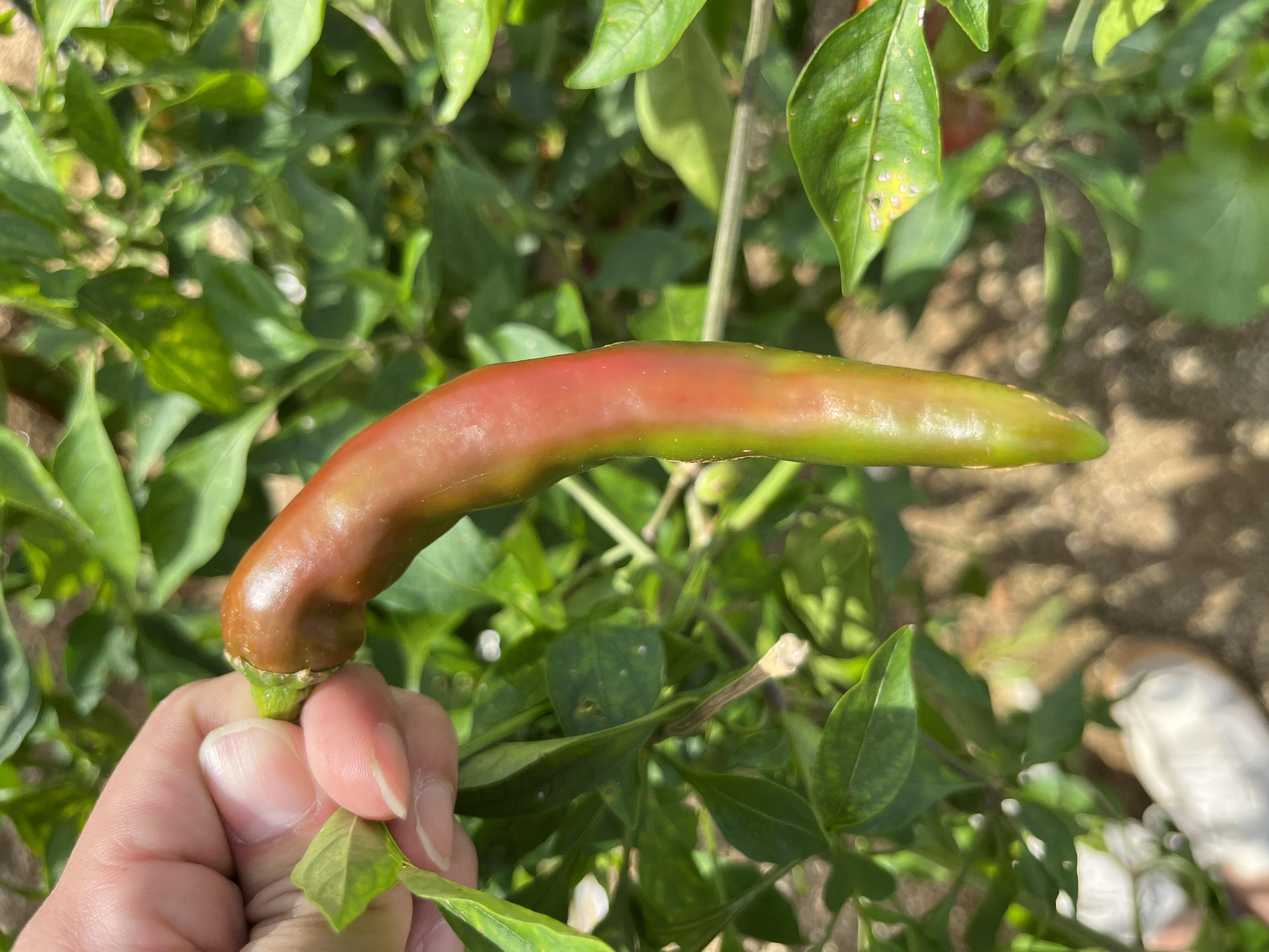Bercak Daun Serkospora: (869, 563, 1269, 724)
Buah Cabai Sehat: (292, 151, 838, 827)
